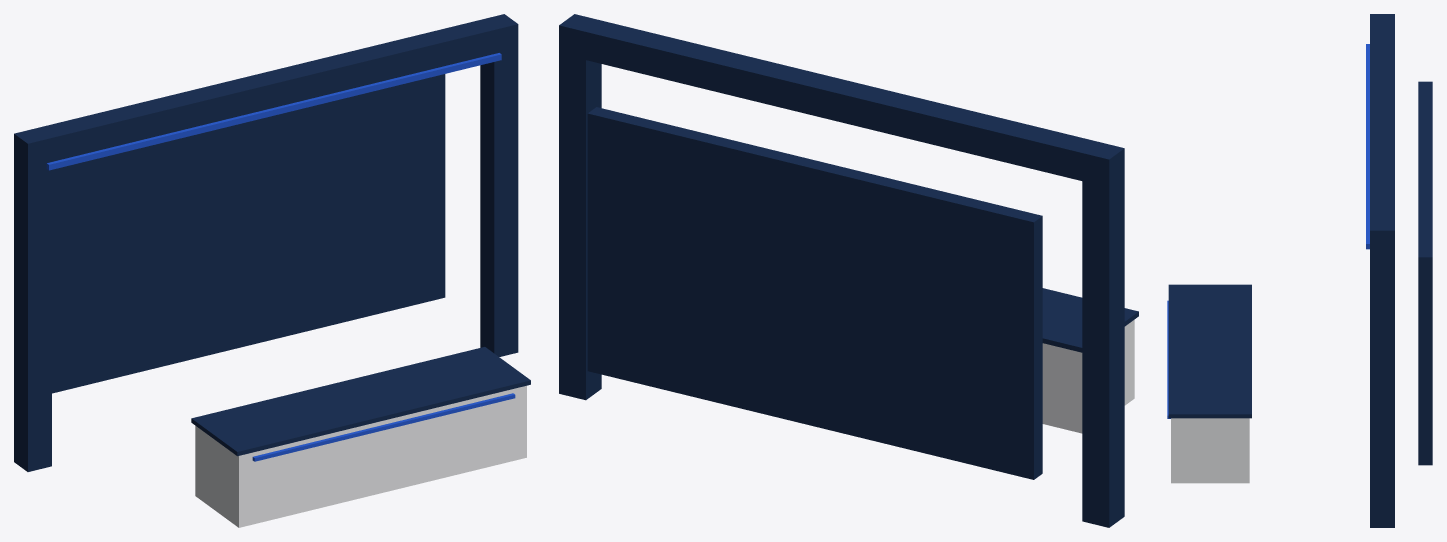
Rendered from kartagotech-hq.glb.
The picture shows the model from 3 angles, left to right: view 1: azimuth 30°, elevation 25°; view 2: azimuth 150°, elevation 25°; view 3: azimuth 270°, elevation 25°; orthographic projection. The views are drawn at different scales.
Parts seen in each view (by area): view 1: KartagoTechHQ; view 2: KartagoTechHQ; view 3: KartagoTechHQ.
Part boxes in pixels (bbox=[...]): KartagoTechHQ: bbox=[14, 14, 530, 527]; KartagoTechHQ: bbox=[559, 14, 1138, 527]; KartagoTechHQ: bbox=[1167, 14, 1432, 527].
Size of the model in its own units: 7.15 by 4.58 by 3.7.
